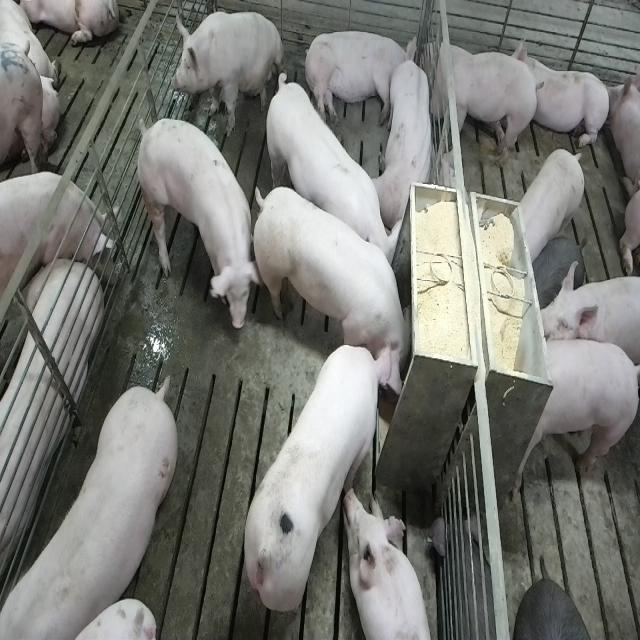Feeding: (242, 338, 399, 618), (257, 180, 421, 387)
Lateral_lying: (0, 254, 101, 607), (302, 28, 418, 127)
Sitting: (171, 8, 284, 136)
Standing: (4, 374, 182, 635), (262, 70, 398, 286), (133, 113, 256, 328), (516, 337, 637, 488), (421, 37, 542, 174), (0, 170, 120, 302), (534, 265, 637, 381), (515, 149, 587, 262)
Sternal_lying: (345, 490, 434, 640), (376, 54, 437, 230), (521, 33, 611, 152)
